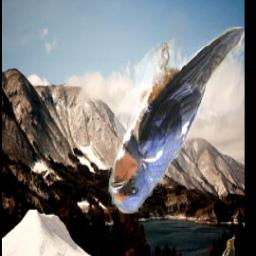Swallow: (108, 27, 245, 214)
Woodpecker: (220, 235, 235, 256)
